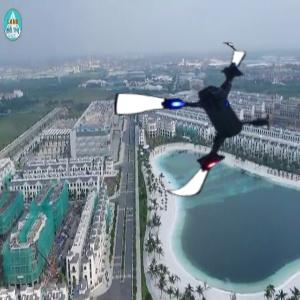drone: (114, 41, 281, 208)
